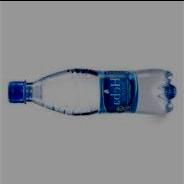bottle: (5, 63, 178, 120)
